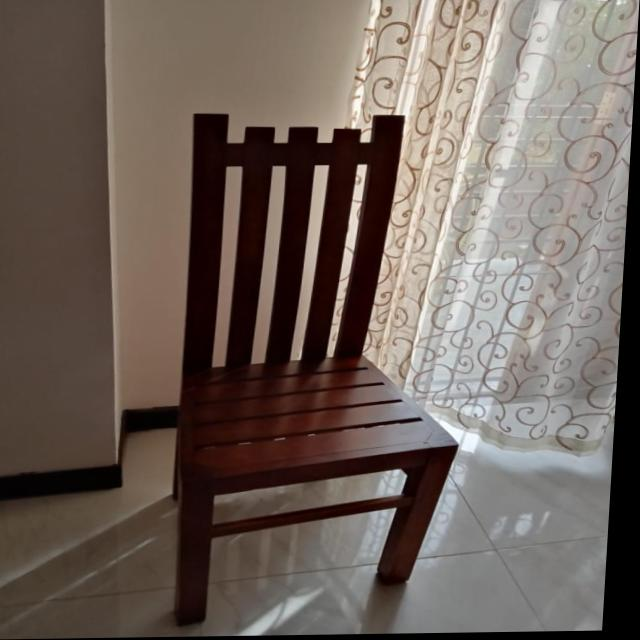Chair: (159, 114, 481, 625)
